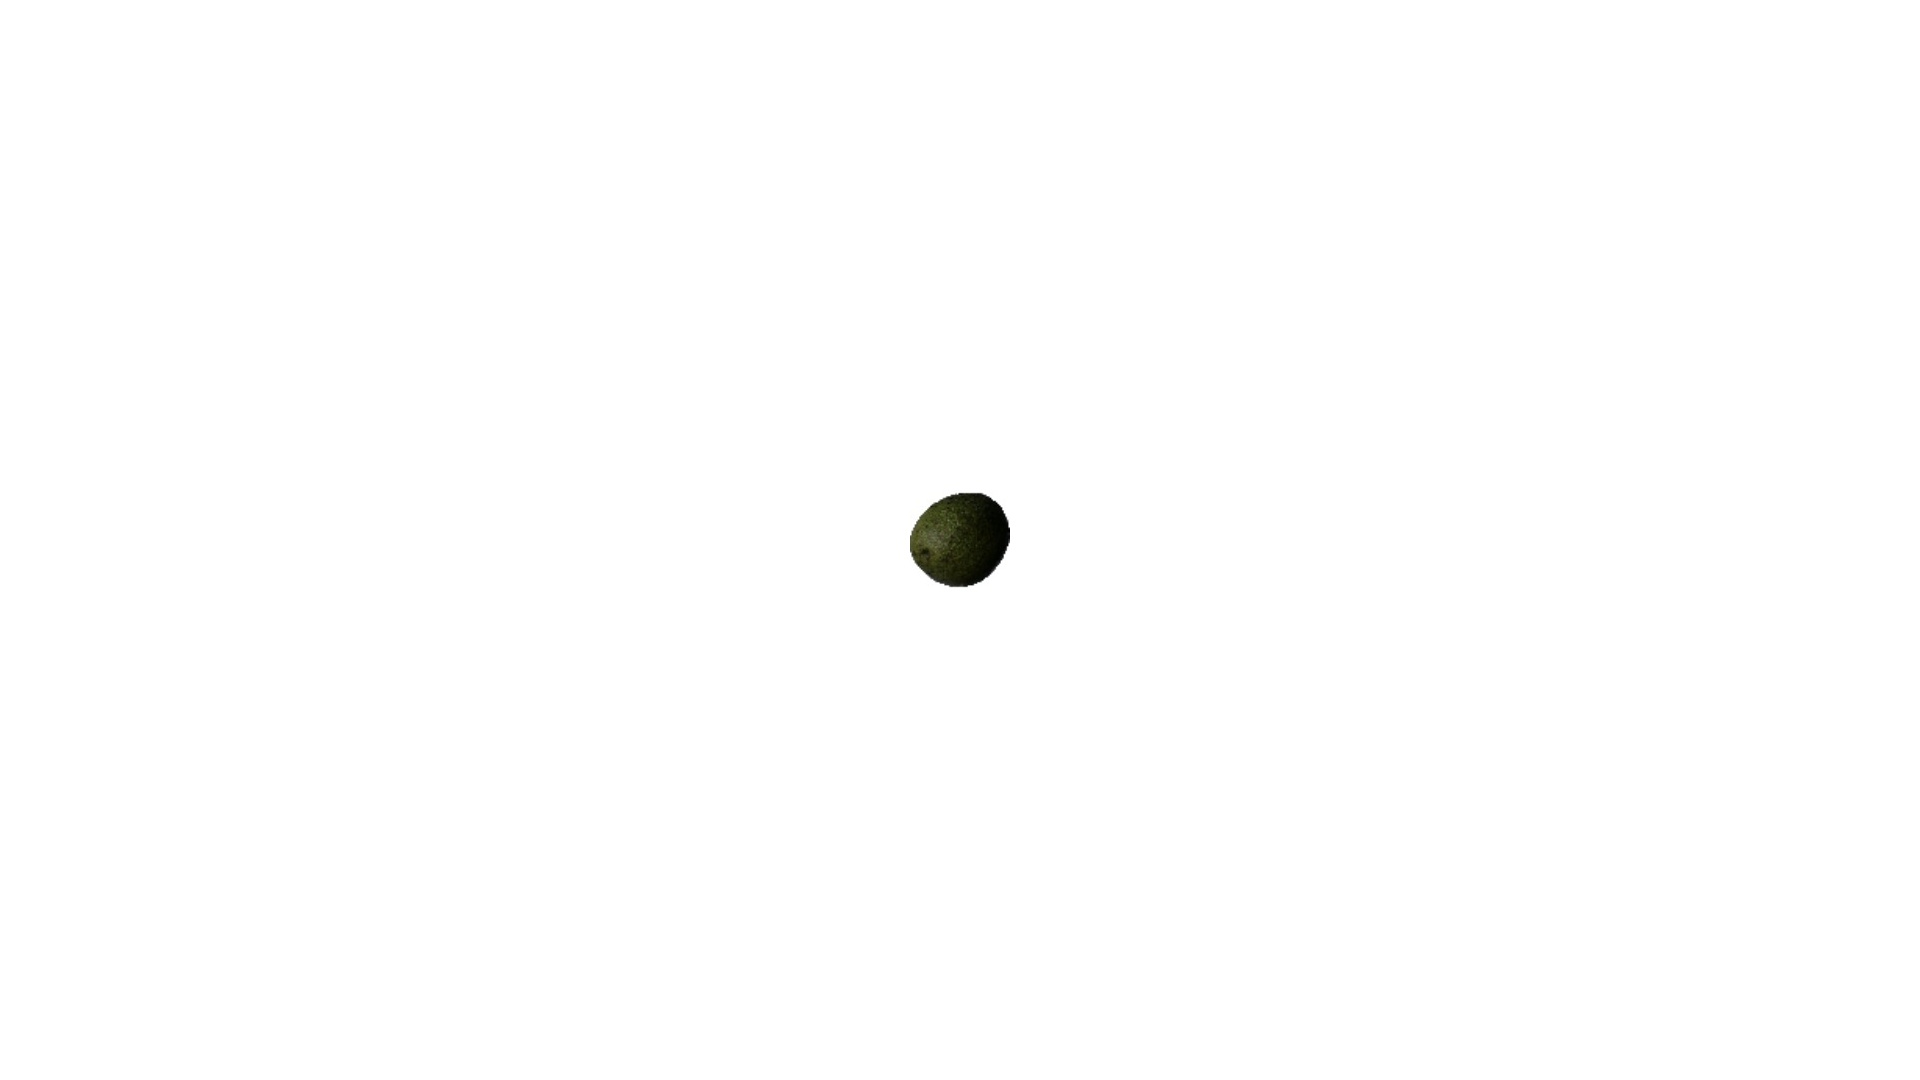abacate: (895, 488, 1014, 588)
